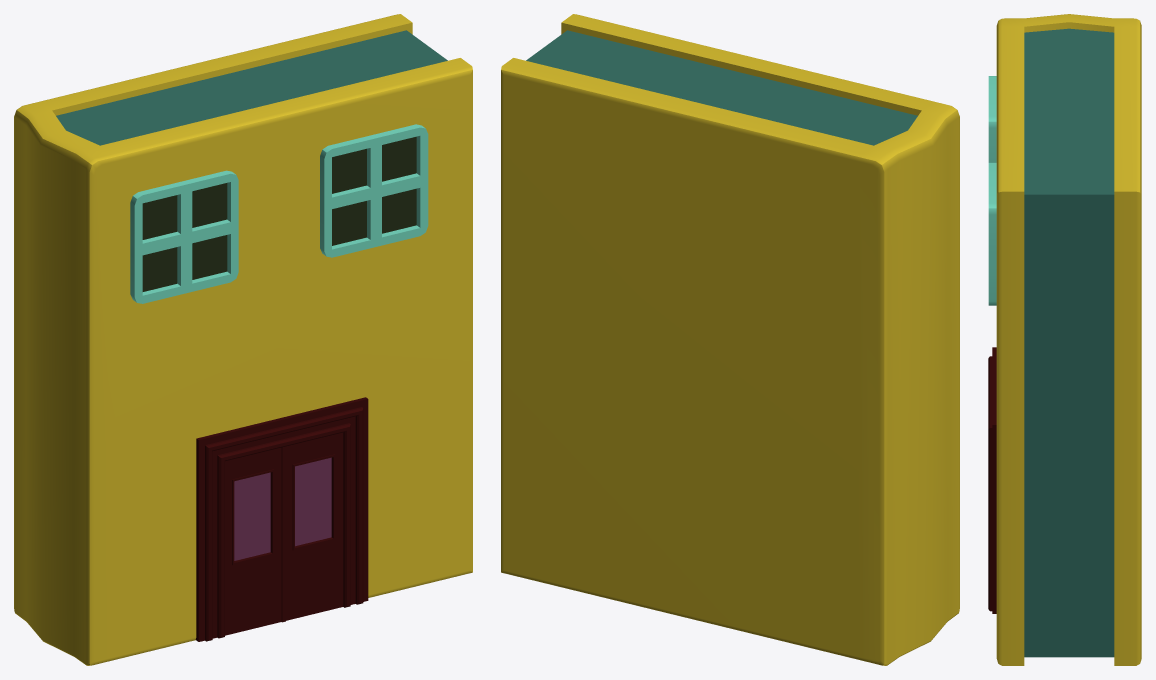
File: BookBuilding.fbx
The picture shows the model from 3 angles, left to right: view 1: azimuth 30°, elevation 25°; view 2: azimuth 150°, elevation 25°; view 3: azimuth 270°, elevation 25°; orthographic projection. The views are drawn at different scales.
Visible parts, largest first — view 1: bookBuilding; view 2: bookBuilding; view 3: bookBuilding.
Boxes of the visible parts, x1,y1,x2,y2 form: bookBuilding: (14, 14, 472, 665); bookBuilding: (501, 14, 959, 665); bookBuilding: (988, 14, 1141, 665).
Size of the model in its own units: 48.63 by 59.34 by 17.4.
